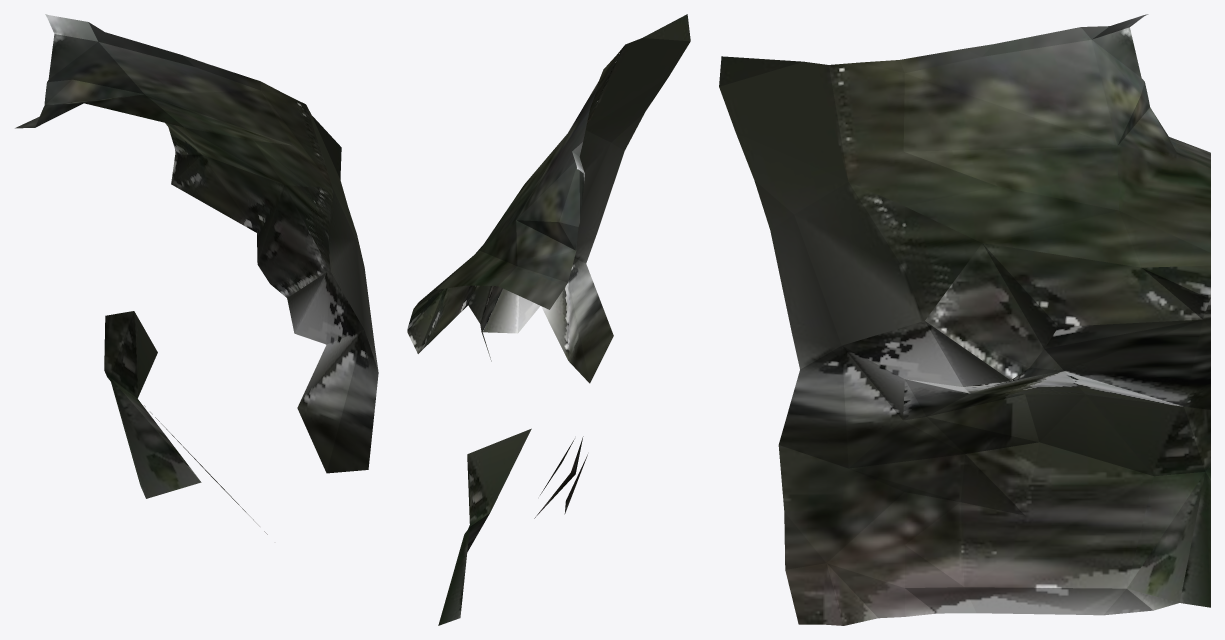
3 renders of one model, left to right at view 1: azimuth 30°, elevation 25°; view 2: azimuth 150°, elevation 25°; view 3: azimuth 270°, elevation 25°, orthographic. The views are drawn at different scales.
Bounding box in the file's own units: 0.5824 × 1.67 × 1.4.
Materials: 2 (2 with a texture image).
